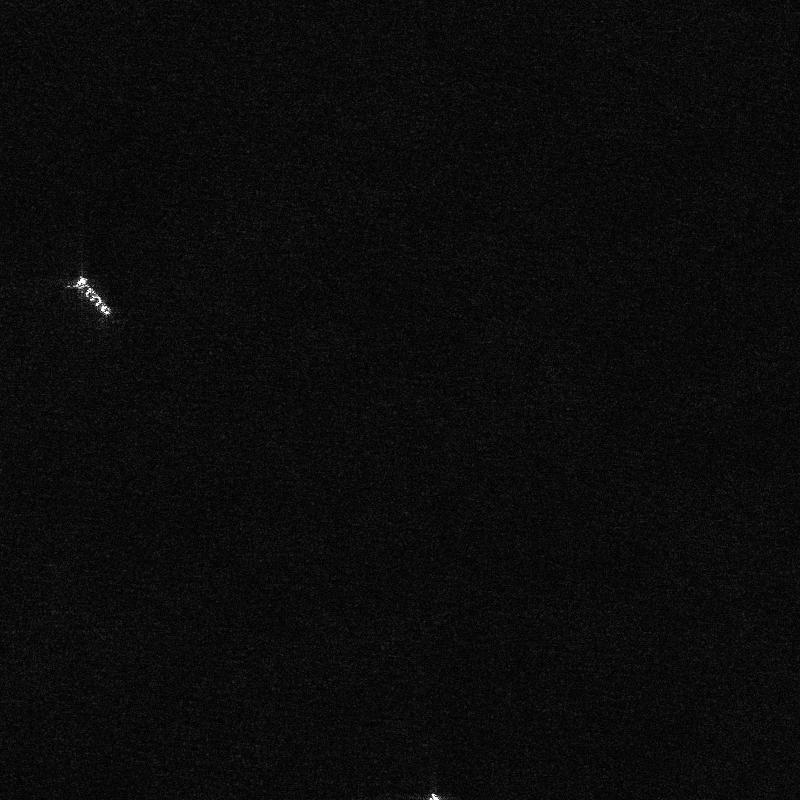ship: (73, 275, 111, 315)
